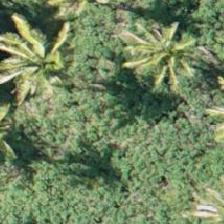coconut_tree: (115, 7, 205, 97), (0, 17, 77, 107)
